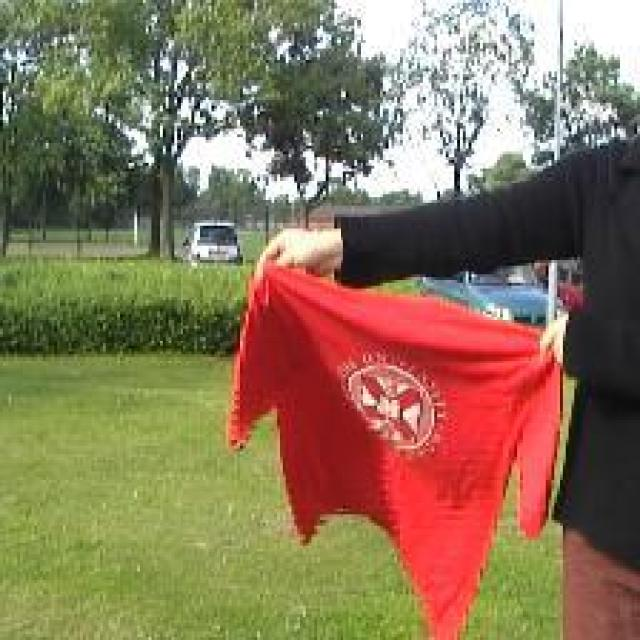other: (204, 236, 566, 634)
